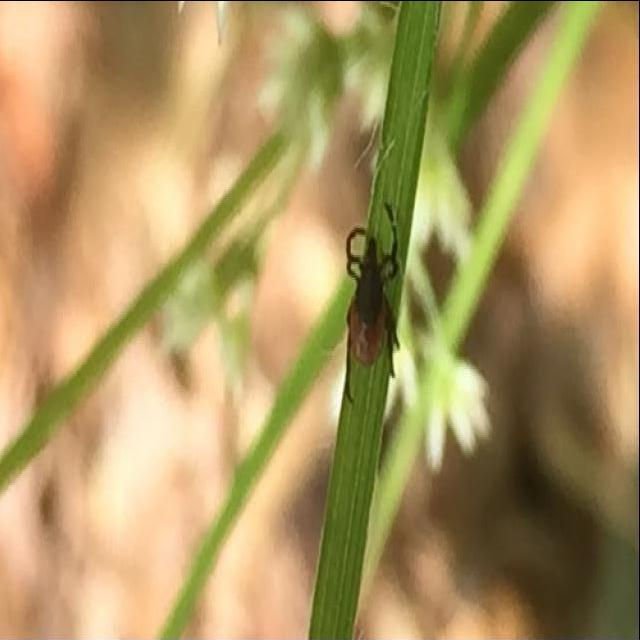Ixodes Ricinus-F: (347, 203, 399, 405)
